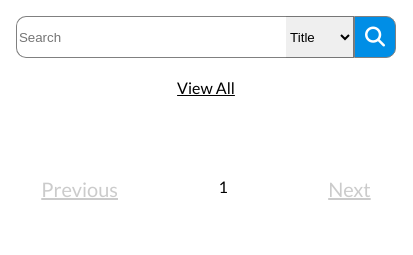
Test: My properties › view all button click should set errors when request response is error
Click the button "View All" at [206, 88], box [177,78,235,97]
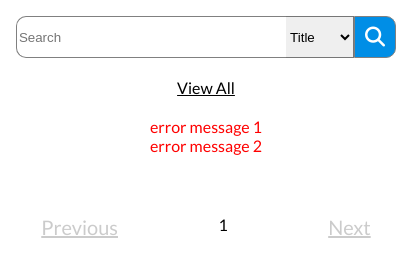
Check: the text "error message 2" is shown, box [150,136,262,155]
